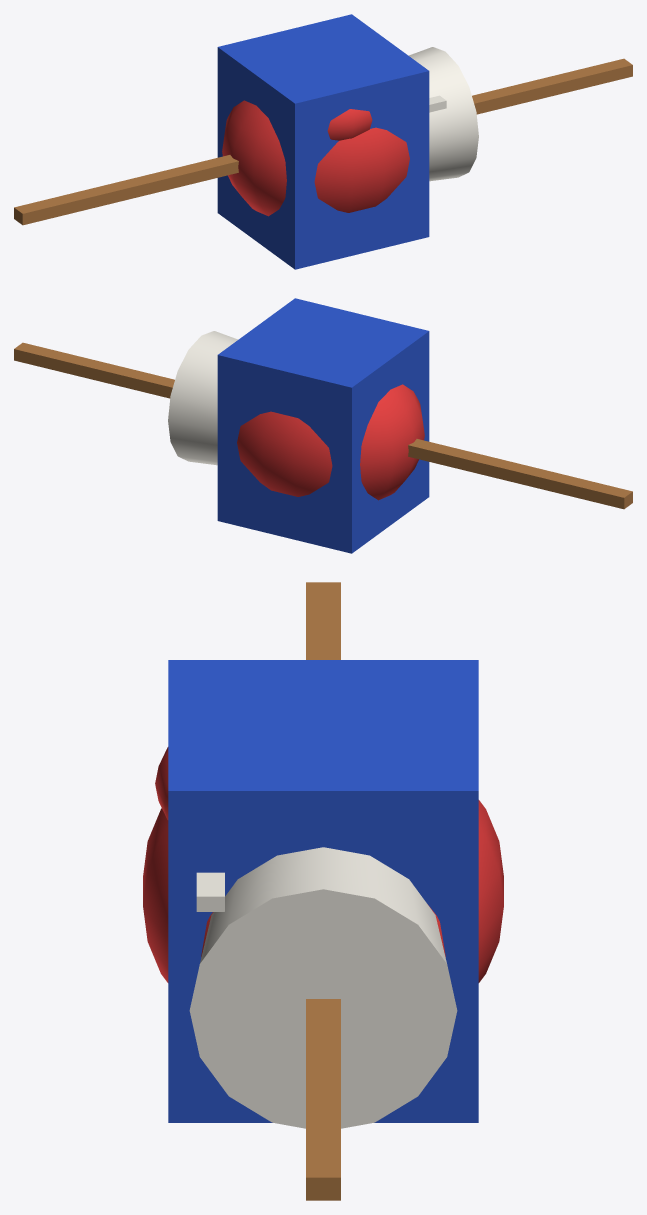
The model's file is gag_glove.glb.
3 views of the same model, one above another, from view 1: azimuth 30°, elevation 25°; view 2: azimuth 150°, elevation 25°; view 3: azimuth 270°, elevation 25° (orthographic). The views are drawn at different scales.
Parts seen in each view (by area): view 1: box, glove, slat_0; view 2: box, glove, slat_0; view 3: box, glove, slat_0.
Boxes of the visible parts, x1,y1,x2,y2 form: box: (217,14,429,269); glove: (222,47,478,216); slat_0: (14,58,632,225); box: (217,298,429,553); glove: (168,331,424,500); slat_0: (14,342,632,509); box: (168,660,478,1122); glove: (143,747,503,1128); slat_0: (306,582,340,1200).
Size of the model in its own units: 1 by 0.26 by 0.2561.
